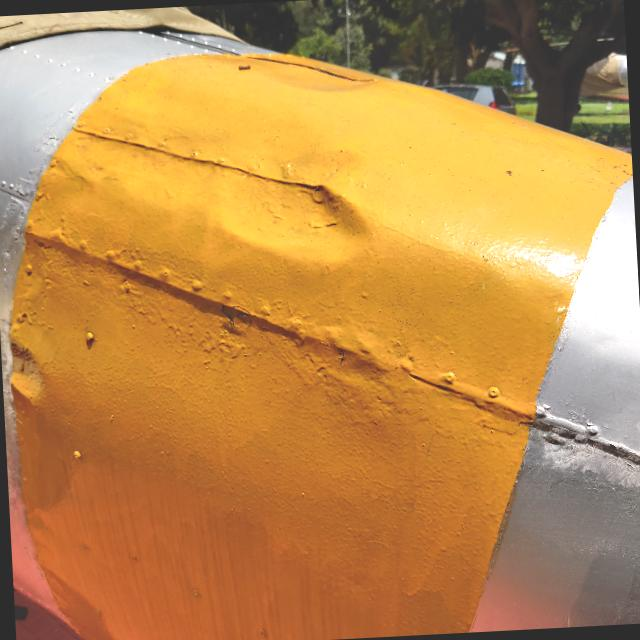dent: (208, 140, 398, 302)
